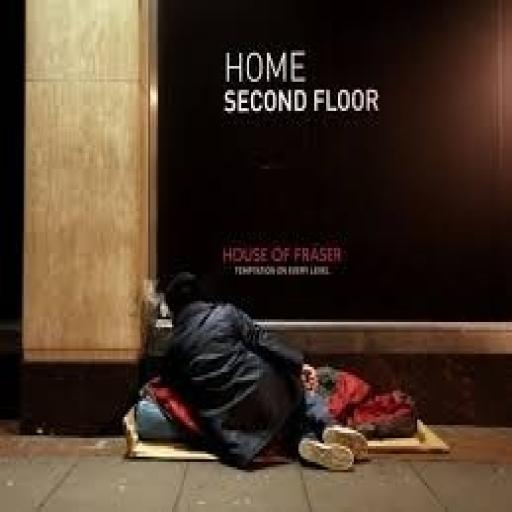sleeping: (117, 177, 432, 478)
